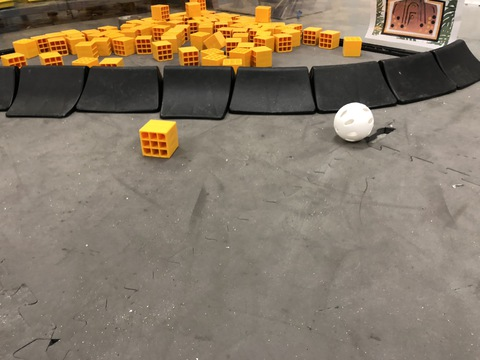ball: (324, 104, 377, 150)
block: (128, 117, 190, 163)
